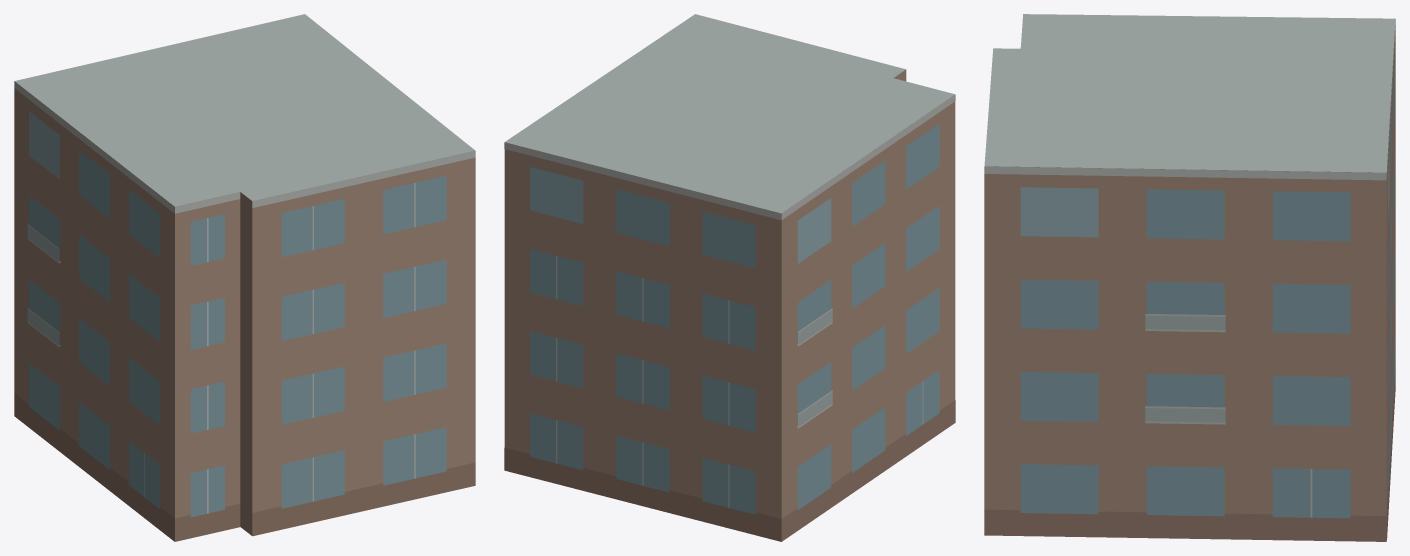
File: survey-upis-32957883.glb
The picture shows the model from 3 angles, left to right: view 1: azimuth 30°, elevation 25°; view 2: azimuth 150°, elevation 25°; view 3: azimuth 270°, elevation 25°; orthographic projection. The views are drawn at different scales.
Parts seen in each view (by area): view 1: survey-upis-32957883.tmp; view 2: survey-upis-32957883.tmp; view 3: survey-upis-32957883.tmp.
Part boxes in pixels (box(x1,y1,x2,y2)): survey-upis-32957883.tmp: box(14, 14, 475, 541); survey-upis-32957883.tmp: box(504, 14, 955, 541); survey-upis-32957883.tmp: box(984, 14, 1395, 541).
Bounding box in the file's own units: 10.79 × 11.7 × 11.82.
